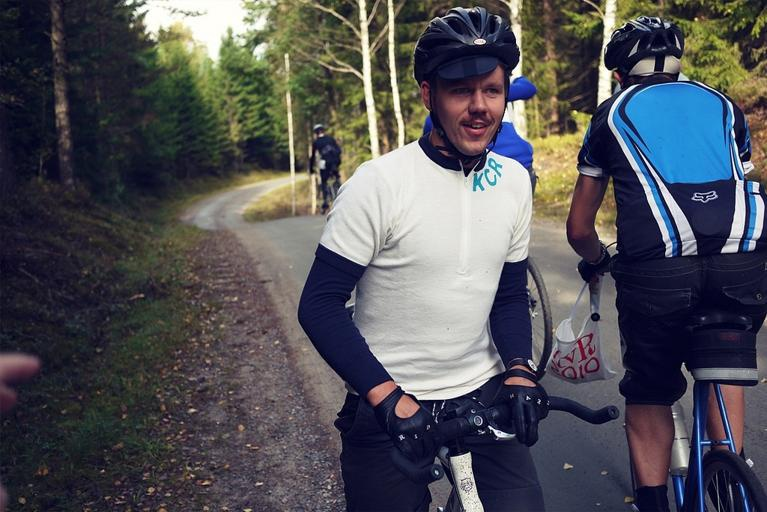non-vehicle: (577, 250, 765, 512), (389, 387, 619, 511), (525, 255, 555, 380), (313, 165, 342, 216)
